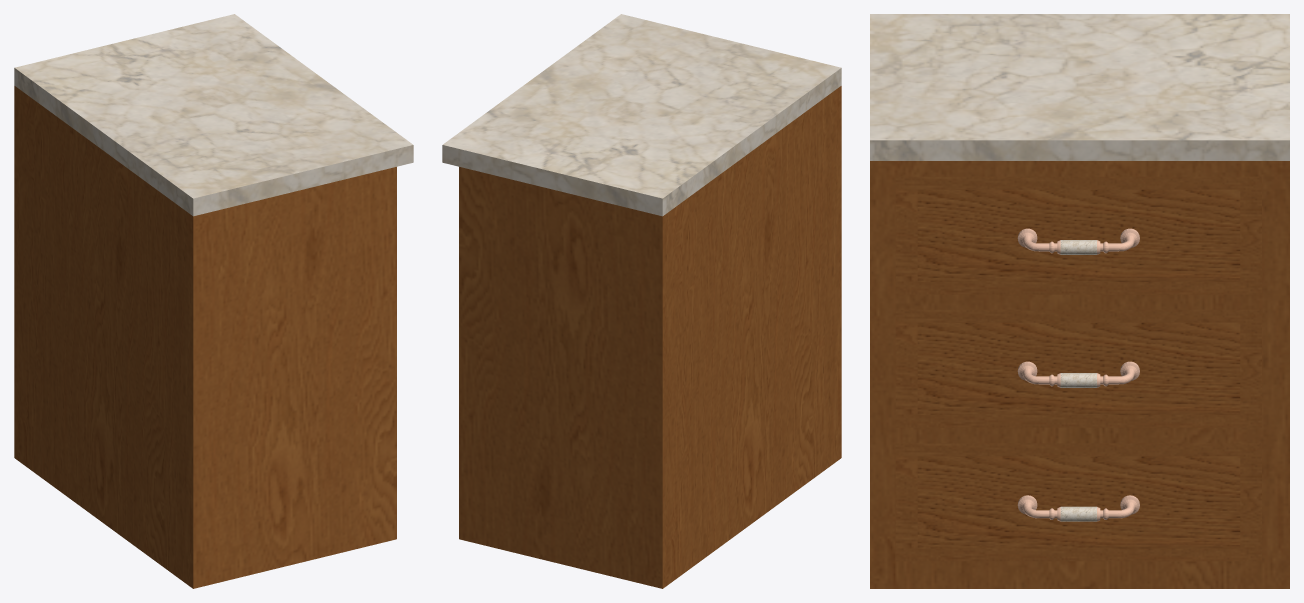
Rendered from Cabinet_Middle.fbx.
3 views of the same model, side by side, from view 1: azimuth 30°, elevation 25°; view 2: azimuth 150°, elevation 25°; view 3: azimuth 270°, elevation 25° (orthographic). The views are drawn at different scales.
Parts seen in each view (by area): view 1: Cabinet_Shelf, Cover_Middle4; view 2: Cabinet_Shelf, Cover_Middle4; view 3: Cover_Middle4, Cabinet_Shelf, pCube186, pCube185, pCube184, pCylinder101, pCylinder99, pCylinder100.
Boxes of the visible parts, x1=… form: Cabinet_Shelf: x1=14, y1=86, x2=396, y2=588; Cover_Middle4: x1=14, y1=14, x2=413, y2=216; Cabinet_Shelf: x1=459, y1=86, x2=841, y2=588; Cover_Middle4: x1=442, y1=14, x2=841, y2=216; Cover_Middle4: x1=870, y1=14, x2=1289, y2=160; Cabinet_Shelf: x1=870, y1=161, x2=1289, y2=588; pCube186: x1=895, y1=443, x2=1261, y2=561; pCube185: x1=895, y1=309, x2=1261, y2=427; pCube184: x1=895, y1=176, x2=1261, y2=294; pCylinder101: x1=1017, y1=495, x2=1139, y2=521; pCylinder99: x1=1017, y1=228, x2=1139, y2=254; pCylinder100: x1=1017, y1=361, x2=1139, y2=387.
Bounding box in the file's own units: 0.618 × 1 × 0.832.
